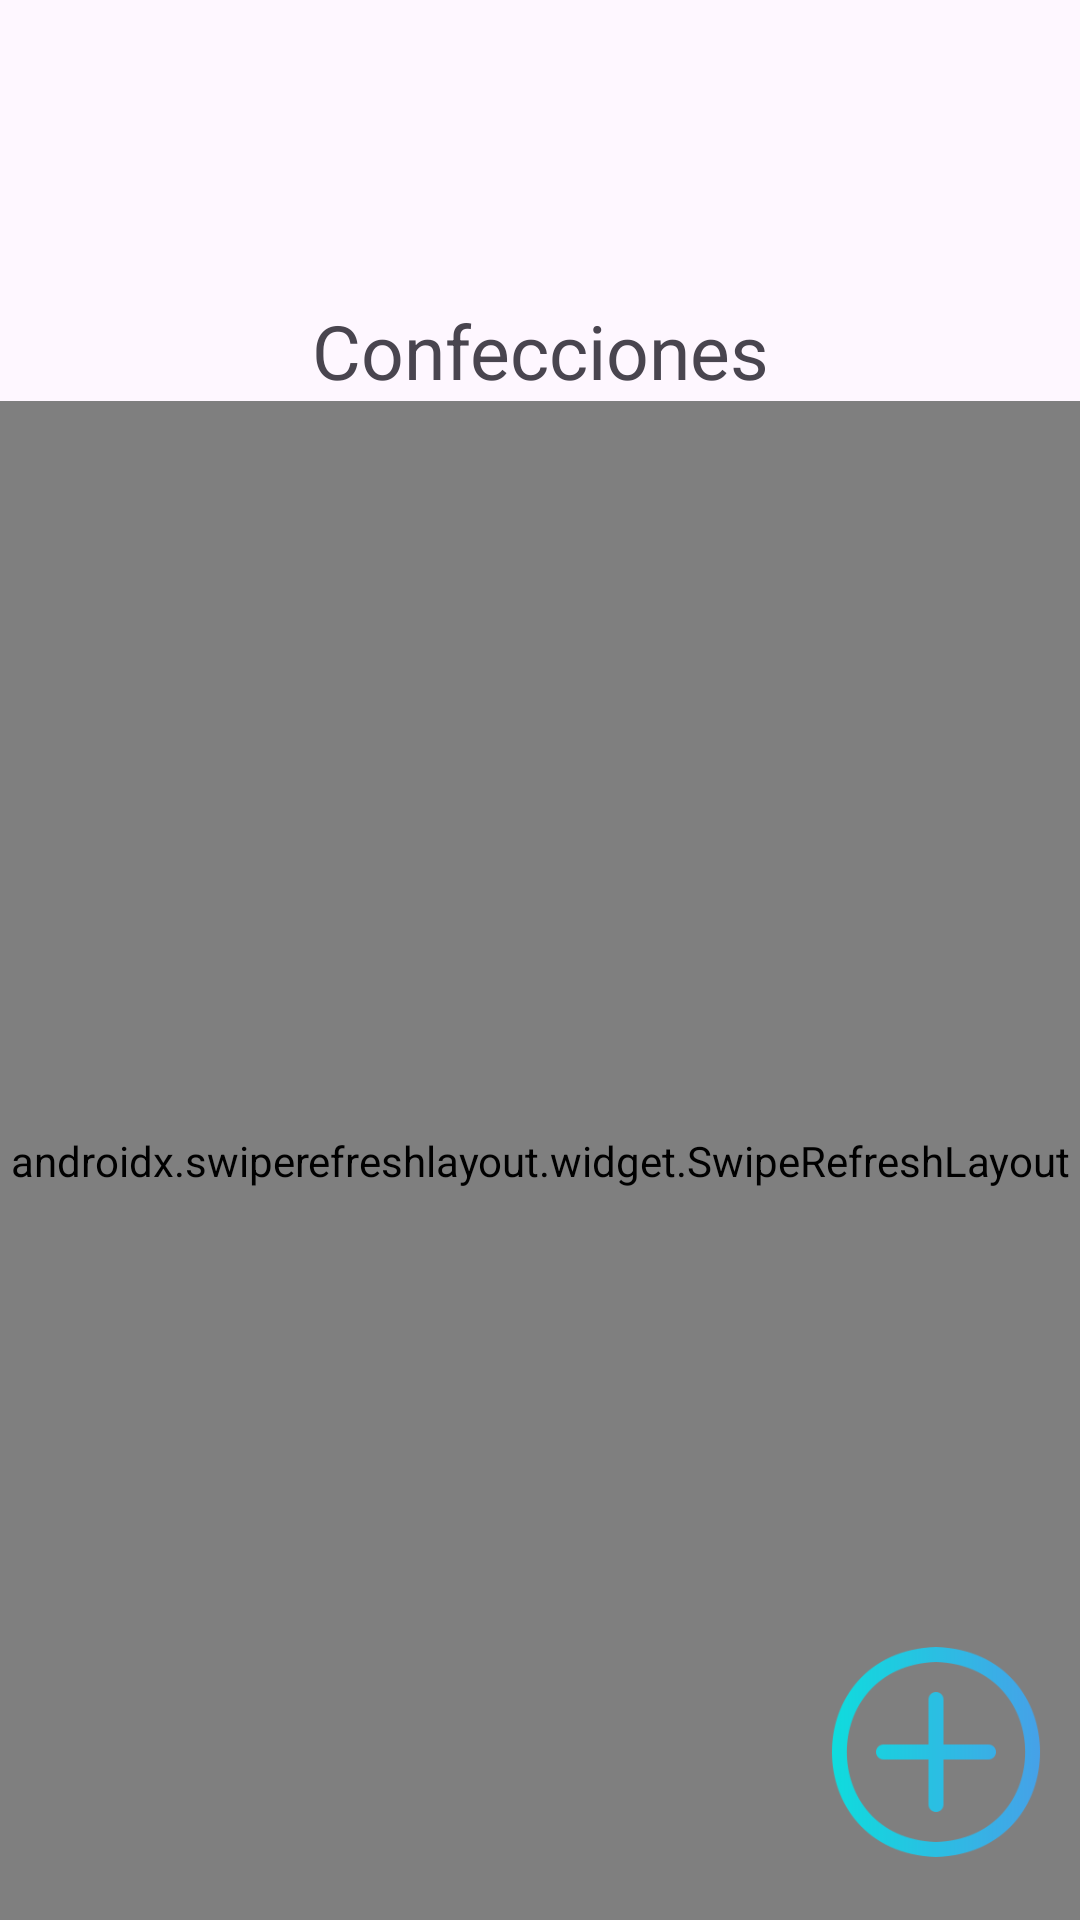

Screen size 1080 × 1920. Icon name, then its box in pixels as [x1, y1, x2, y2]:
add: [832, 1647, 1040, 1857]
